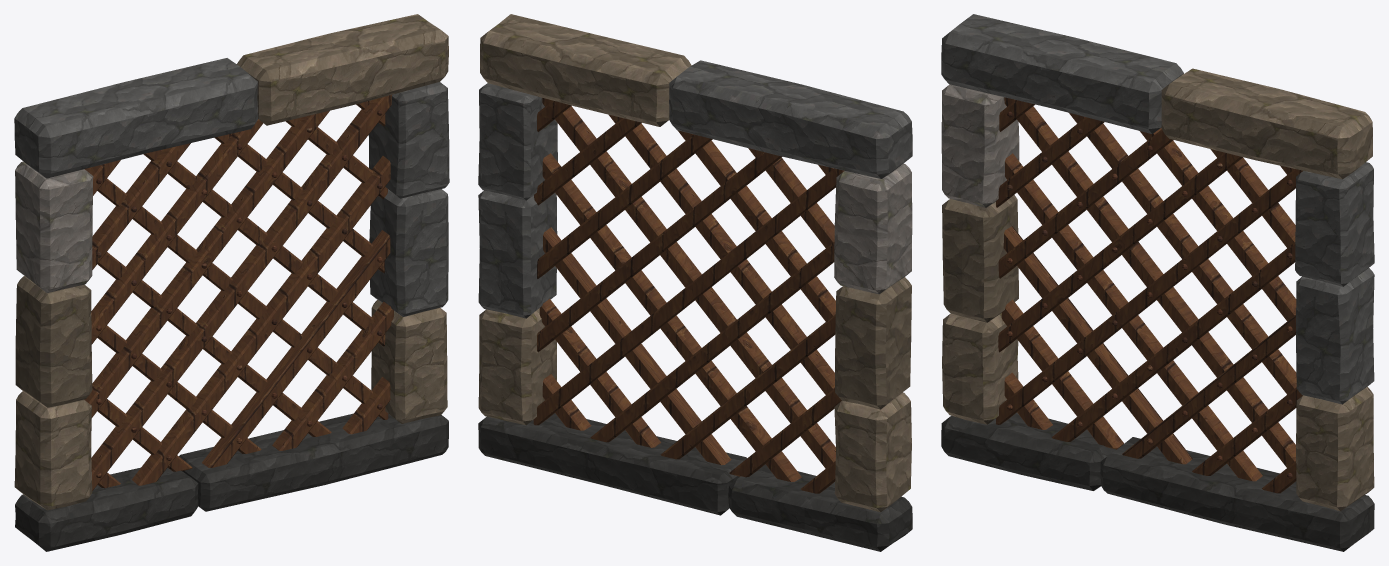
The model's file is lattice_wall__cut_stone.glb.
3 views of the same model, side by side, from view 1: azimuth 30°, elevation 25°; view 2: azimuth 150°, elevation 25°; view 3: azimuth 330°, elevation 25° (orthographic).
Visible parts, largest first — view 1: model; view 2: model; view 3: model.
Part boxes in pixels (box(x1,y1,x2,y2)): model: box(14, 14, 449, 551); model: box(478, 14, 912, 551); model: box(941, 14, 1374, 551).
Bounding box in the file's own units: 1.98 × 1.98 × 0.2833.
Materials: 7 (7 with a texture image).
